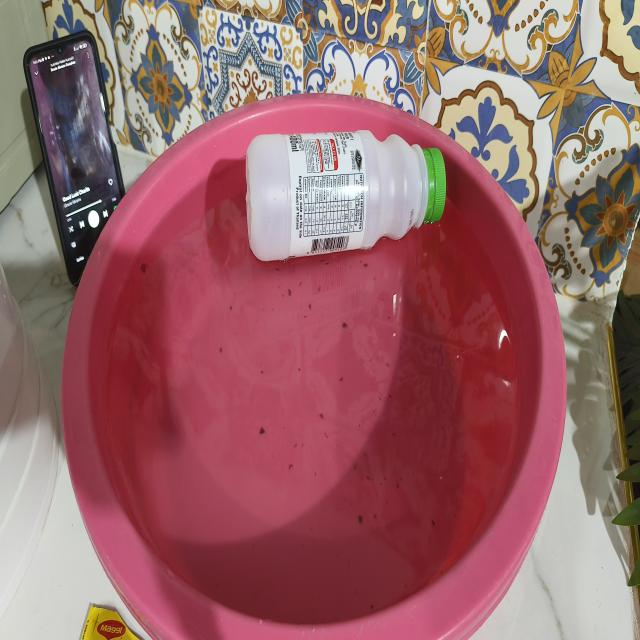Plastic Bottle: (222, 100, 461, 306)
